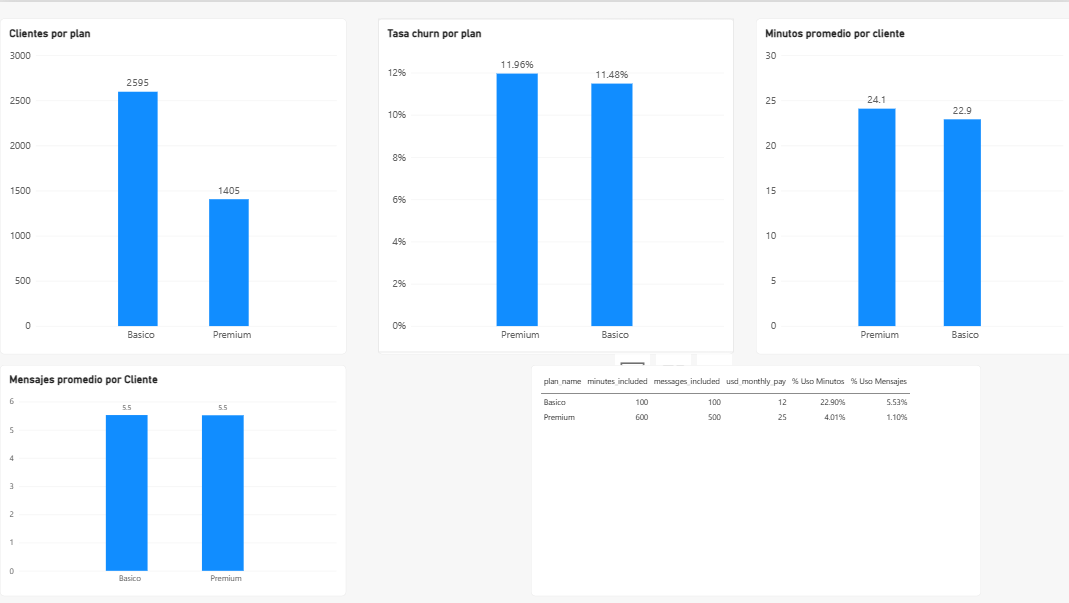

Layout of this report page (visuals, bound fields, positions):
{"tool":"powerbi","page":{"name":"Page 1","canvas":[1920,1080],"ordinal":0},"visuals":[{"type":"clusteredColumnChart","title":"Clientes por plan","fields":{"Category":["users_latam.plan"],"Y":["users_latam.Total Clientes"]},"box":[0,28.6,620.3,601.3],"z":0},{"type":"clusteredColumnChart","title":"Tasa churn por plan","fields":{"Category":["users_latam.plan"],"Y":["users_latam.Tasa Churn"]},"box":[677.6,28.6,637,601.3],"z":1000},{"type":"clusteredColumnChart","title":"Minutos promedio por cliente","fields":{"Category":["users_latam.plan"],"Y":["usage.Minutos por Cliente"]},"box":[1352.8,28.6,567.8,601.3],"z":2000},{"type":"clusteredColumnChart","title":"Mensajes promedio por Cliente","fields":{"Category":["users_latam.plan"],"Y":["usage.Mensajes por Cliente"]},"box":[0,649,620,414],"z":3000},{"type":"tableEx","fields":{"Values":["plans.plan_name","plans.minutes_included","plans.messages_included","plans.usd_monthly_pay","plans.% Uso Minutos","plans.% Uso Mensajes"]},"box":[951.1,650.2,806,413.7],"z":4000}]}

Visuals, with their boxes in screenshot pixels (x1, y1, x2, y2), scaled from the page's 1920x1080 canvas onto the 1069x603 screenshot:
"Clientes por plan" clusteredColumnChart: select_region(0, 16, 345, 352)
"Tasa churn por plan" clusteredColumnChart: select_region(377, 16, 732, 352)
"Minutos promedio por cliente" clusteredColumnChart: select_region(753, 16, 1068, 352)
"Mensajes promedio por Cliente" clusteredColumnChart: select_region(0, 362, 345, 594)
tableEx - plans.plan_name x plans.minutes_included: select_region(530, 363, 978, 594)
